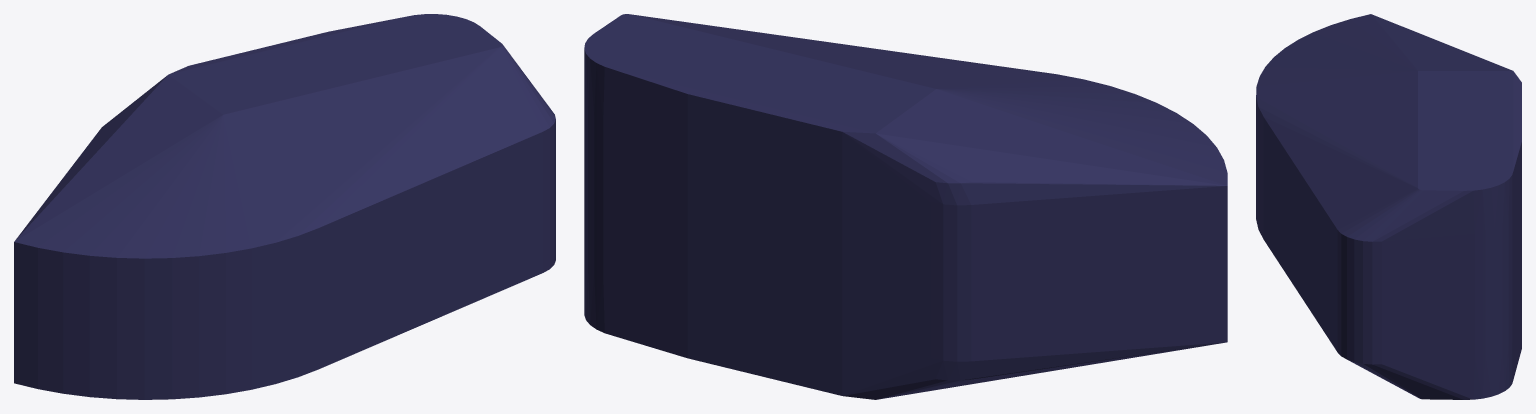
The picture shows the model from 3 angles, left to right: view 1: azimuth 30°, elevation 25°; view 2: azimuth 150°, elevation 25°; view 3: azimuth 270°, elevation 25°; orthographic projection. The views are drawn at different scales.
Parts seen in each view (by area): view 1: link_2; view 2: link_2; view 3: link_2.
Part boxes in pixels (x1,y1,x2,y2): link_2: [14, 14, 555, 399]; link_2: [584, 14, 1227, 399]; link_2: [1256, 14, 1521, 399].
Bounding box in the file's own units: 0.0718 × 0.0354 × 0.0307.
